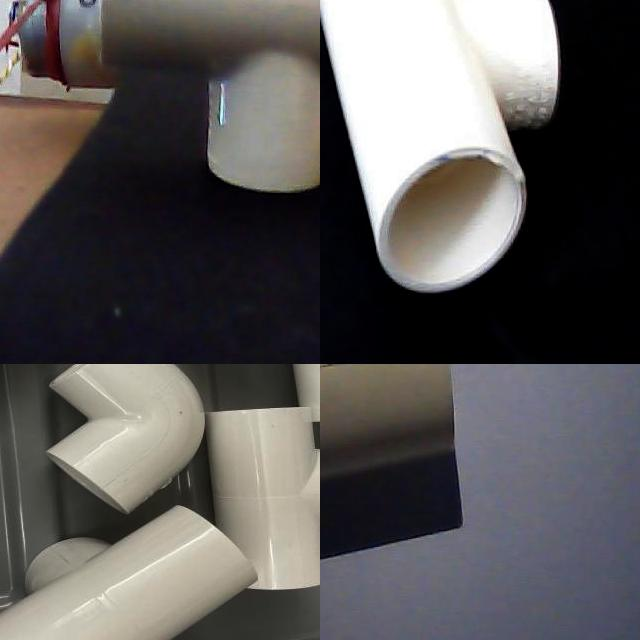L Joint: (46, 364, 206, 516)
T Joint: (320, 0, 560, 298), (0, 505, 258, 640), (206, 407, 320, 592)
